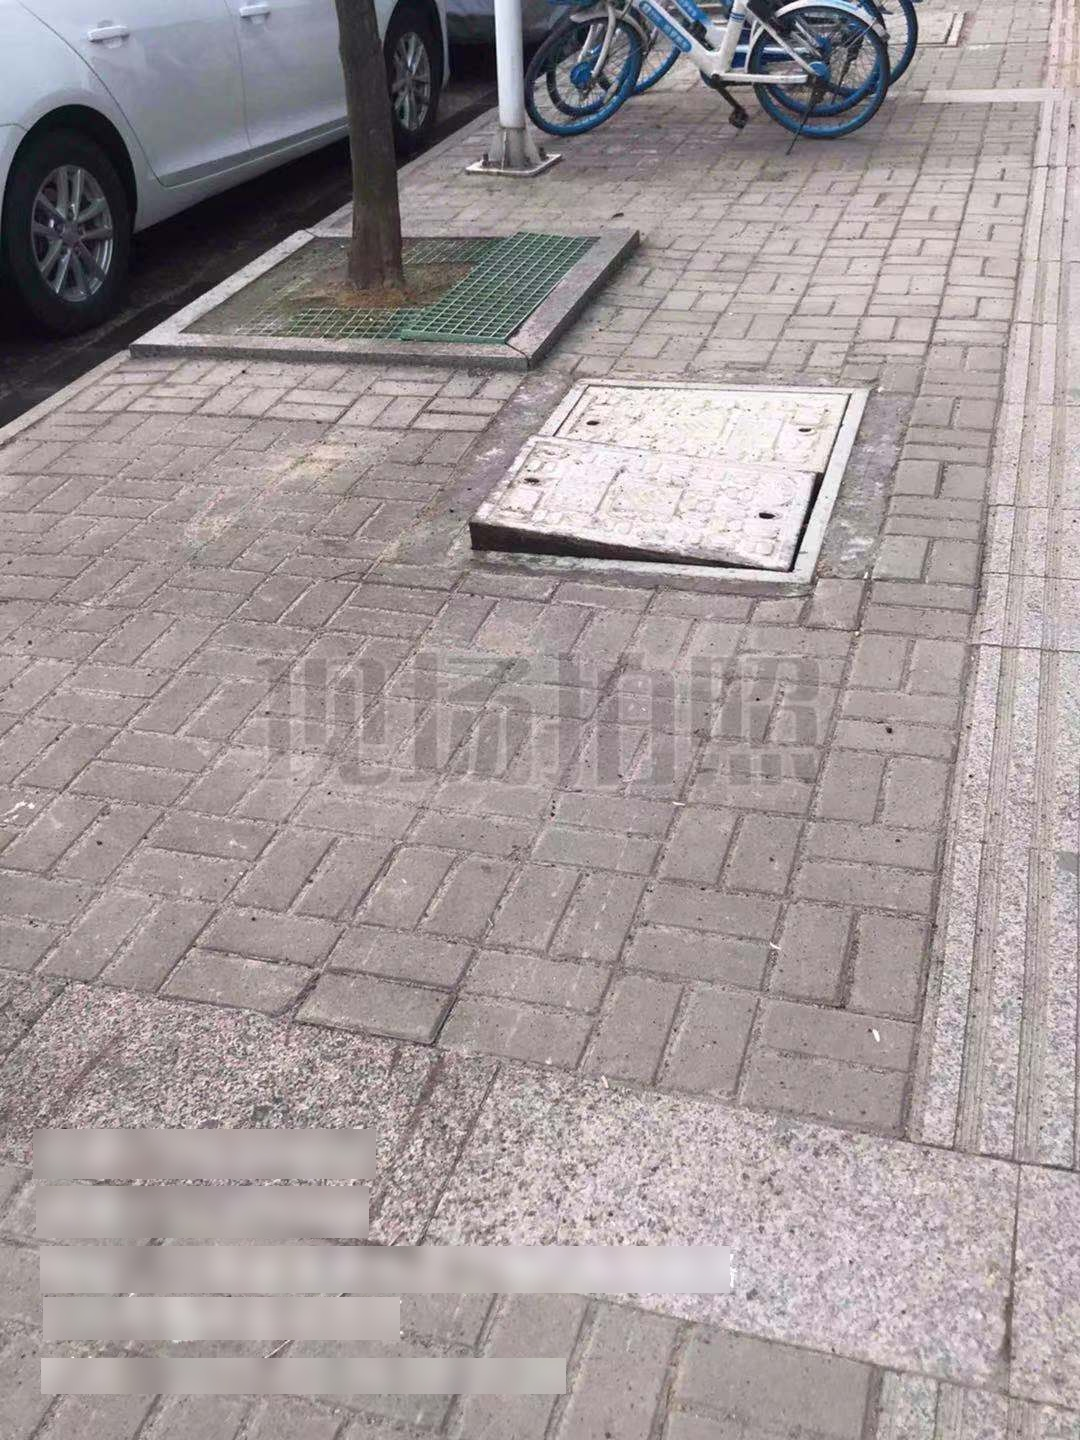well: (465, 376, 869, 585)
